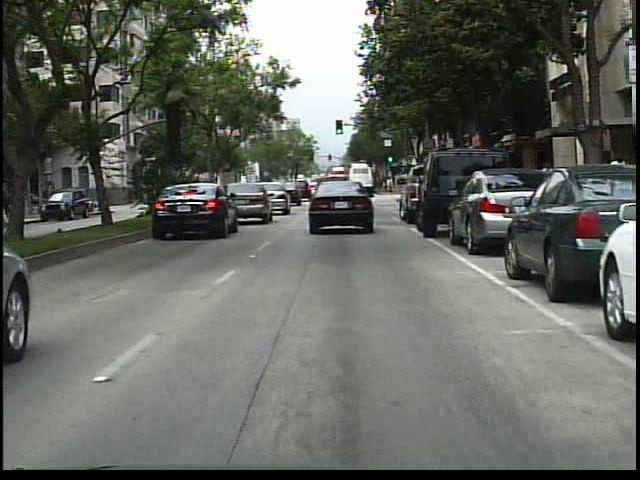person: (604, 150, 632, 230), (534, 157, 555, 214)
